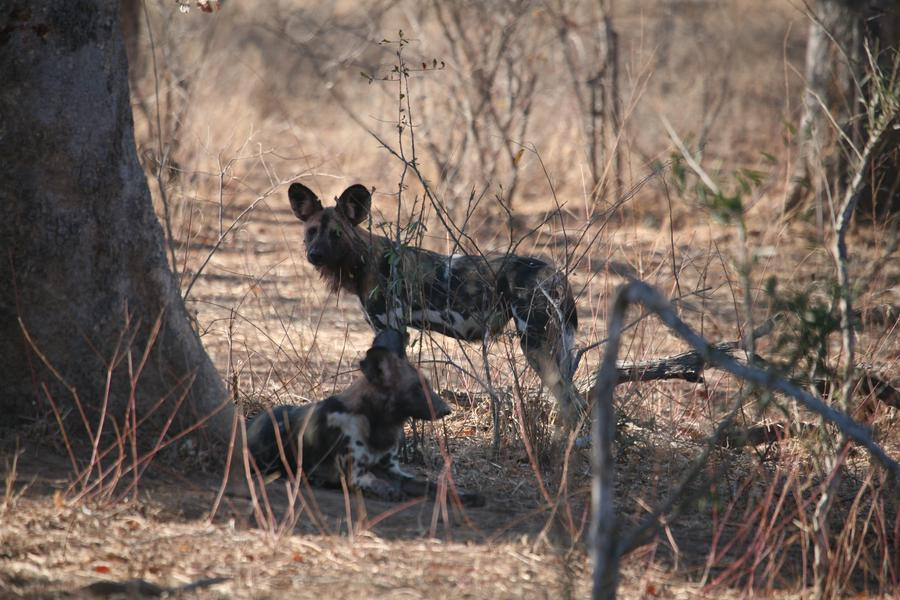wilddog: (284, 178, 584, 353), (245, 356, 428, 470)
